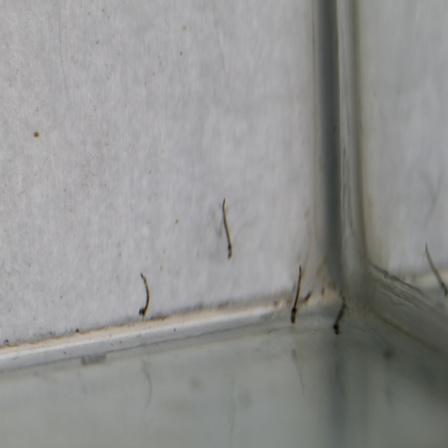Jentik-Nyamuk: (132, 269, 156, 320), (219, 195, 236, 260), (289, 264, 306, 326)
